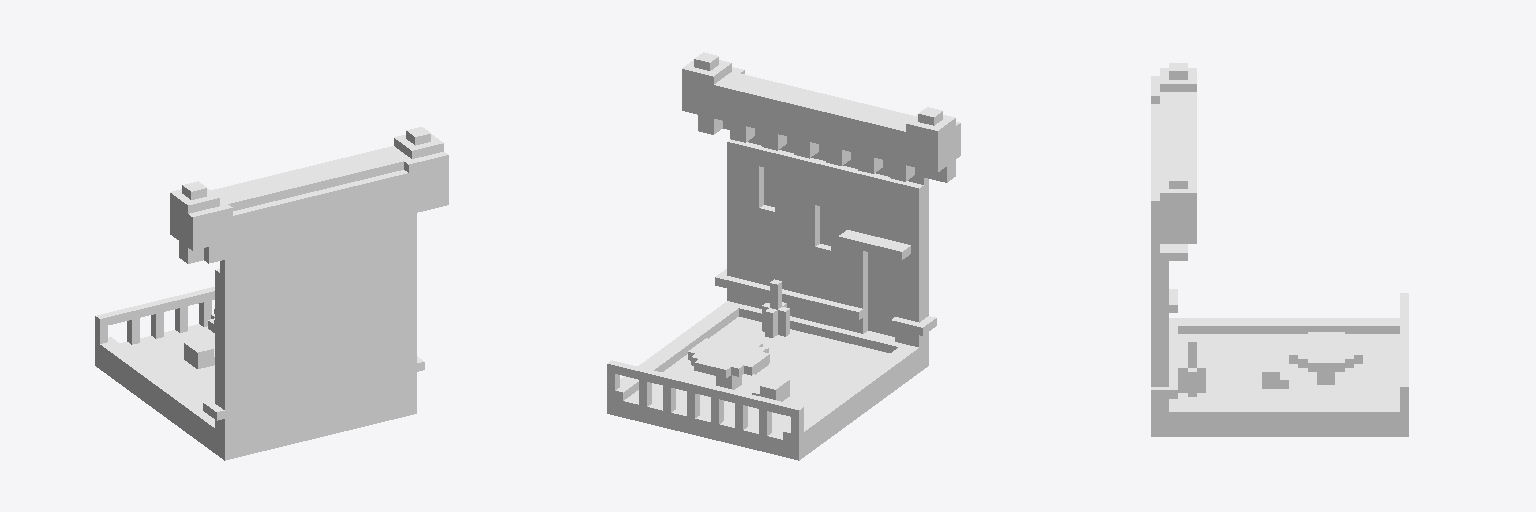
The model's file is tile_3_right_fancy_90.obj.
The picture shows the model from 3 angles: view 1: azimuth 30°, elevation 25°; view 2: azimuth 150°, elevation 25°; view 3: azimuth 270°, elevation 25°; orthographic projection.
Visible parts, largest first — view 1: object 1; view 2: object 1; view 3: object 1.
Boxes of the visible parts, x1,y1,x2,y2 form: object 1: [95, 127, 448, 460]; object 1: [607, 52, 960, 460]; object 1: [1151, 63, 1408, 436].
Bounding box in the file's own units: 3.2 × 3.2 × 2.8.